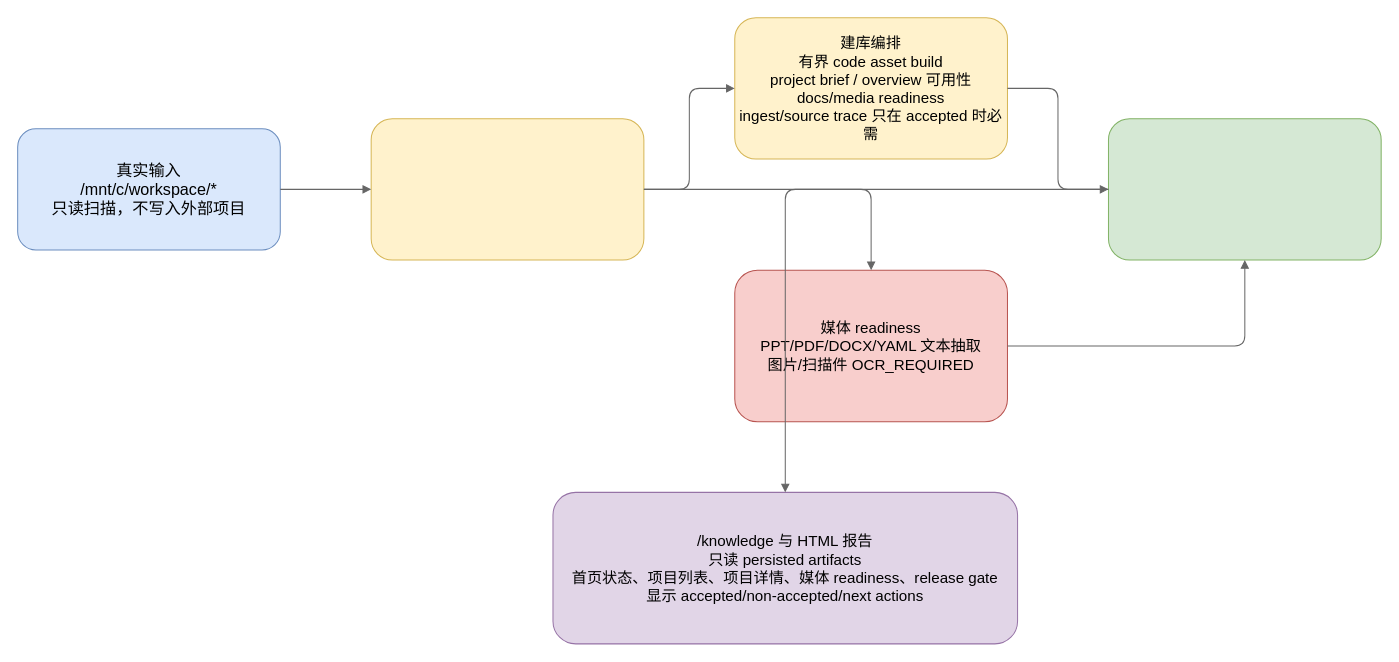
Some shapes in this 1399 by 662 pixel diagram are drawn without their labels. Here are the shapes that lost their labels. From the top down, the centre of each, then its label:
At [507,189]: "扫描与分类 project_registry.json classification evidence ignored reason".
At [1244,189]: "组合索引 portfolio_index.json query entrypoints artifact refs".
